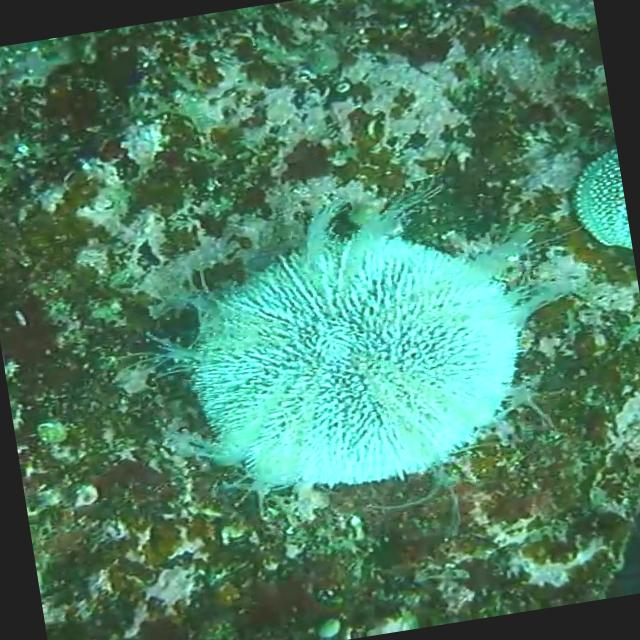Deniz Kestanesi: (116, 152, 584, 530)
